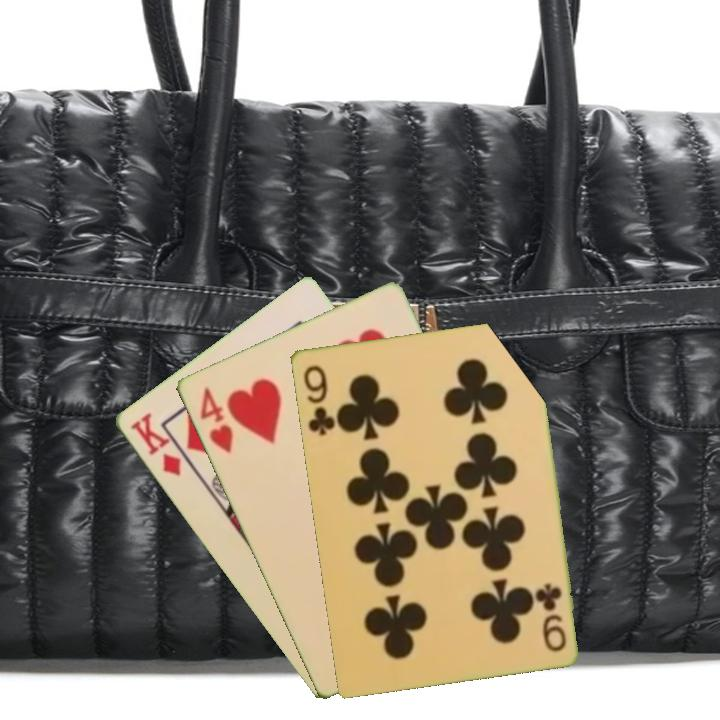4h: (196, 383, 236, 457)
9c: (299, 361, 338, 438), (534, 579, 569, 654)
Kd: (126, 409, 184, 480)
